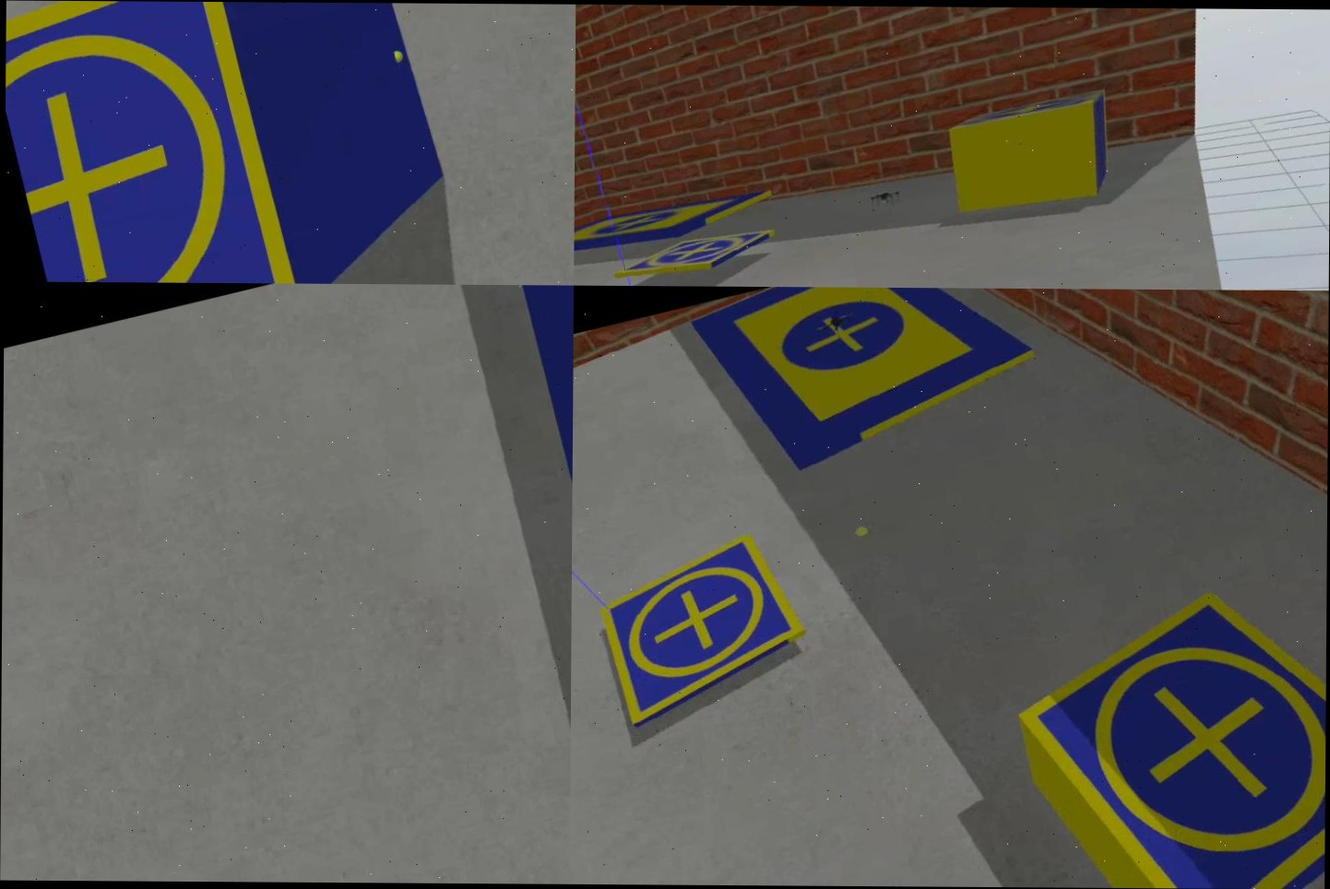large_base: (684, 286, 1051, 486), (574, 170, 784, 285)
small_base: (998, 544, 1326, 889), (5, 0, 315, 284), (583, 529, 823, 735), (611, 216, 780, 287), (944, 78, 1112, 147)
